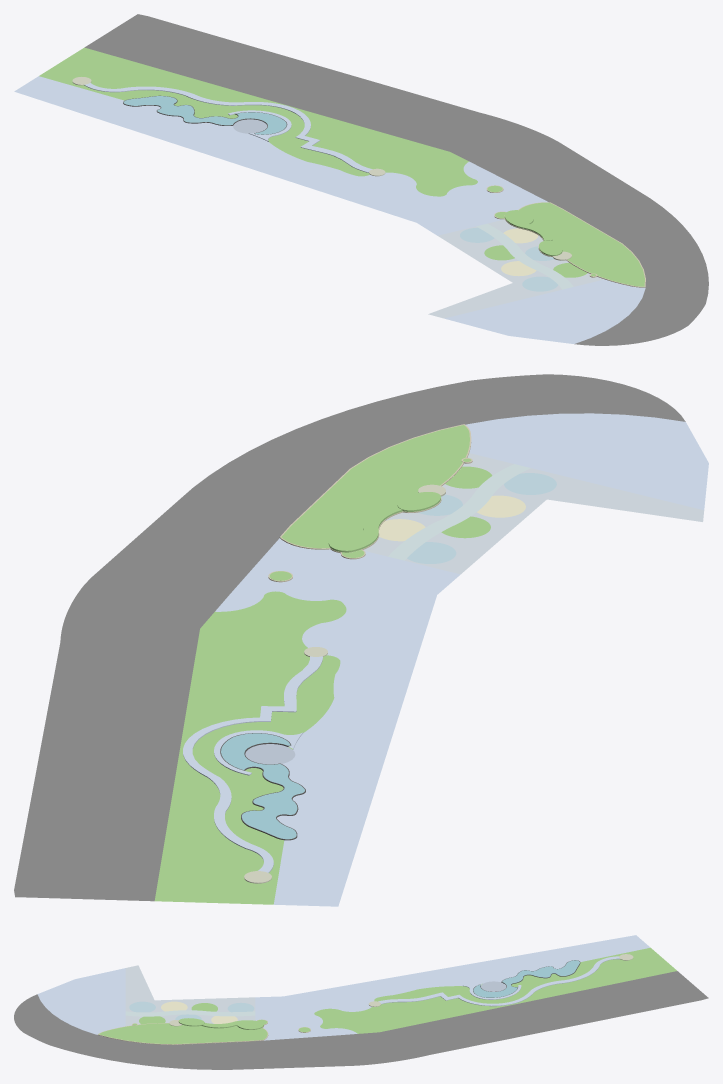
Rendered from 地面整理926(1).gltf.
The picture shows the model from 3 angles, top to bottom: view 1: azimuth 30°, elevation 25°; view 2: azimuth 150°, elevation 25°; view 3: azimuth 270°, elevation 25°; orthographic projection. The views are drawn at different scales.
Visible parts, largest first — view 1: 马路, 地砖, 草地, Group13, Group10, 路水, Group16, Group2, 花池大型; view 2: 马路, 地砖, 草地, Group13, Group10, 路水, Group16, Group2, 花池大型, Group3, 地面, Group6 (+1 smaller); view 3: 马路, 地砖, 草地, Group13, Group10, 路水, Group16, Group2, 花池大型, 花池, Group15, Group3.
Part boxes in pixels (x1,y1,x2,y2): 马路: (84, 14, 708, 345); 地砖: (14, 76, 645, 343); 草地: (39, 47, 477, 196); Group13: (519, 202, 644, 286); Group10: (428, 219, 603, 318); 路水: (84, 83, 372, 172); Group16: (123, 96, 286, 134); Group2: (476, 223, 573, 289); 花池大型: (494, 210, 552, 256); 马路: (14, 374, 685, 901); 地砖: (215, 413, 708, 906); 草地: (154, 591, 346, 904); Group13: (281, 425, 469, 548); Group10: (363, 453, 704, 574); 路水: (183, 656, 322, 872); Group16: (221, 733, 304, 839); Group2: (388, 464, 530, 560); 花池大型: (328, 497, 441, 559); Group3: (504, 473, 556, 494); 地面: (245, 744, 295, 764); Group6: (477, 495, 525, 517); 马路: (14, 971, 708, 1069); 地砖: (37, 935, 649, 1040); 草地: (314, 947, 676, 1033); Group13: (99, 1023, 267, 1044); Group10: (125, 965, 255, 1026); 路水: (378, 956, 619, 1006); Group16: (473, 960, 579, 997); Group2: (125, 1010, 255, 1016); 花池大型: (178, 1019, 267, 1029); 花池: (97, 1023, 268, 1044); Group15: (473, 960, 580, 997); Group3: (129, 1001, 155, 1012).
Size of the model in its own units: 507 by 2.35 by 1104.
